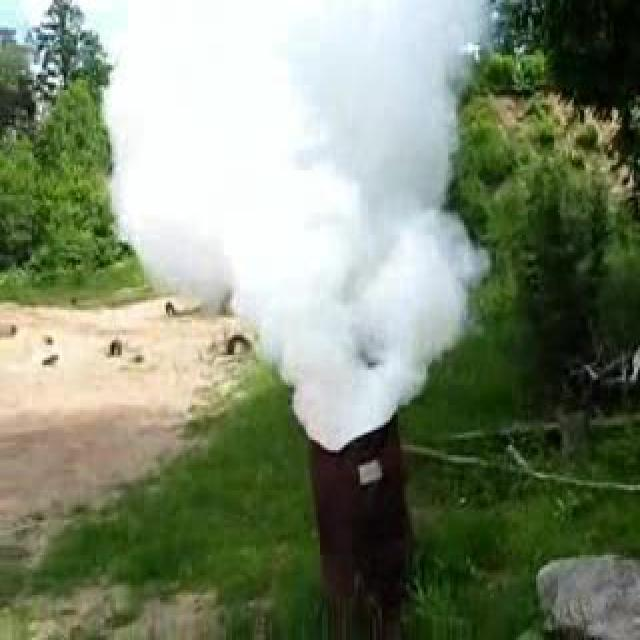Smoke: (123, 12, 448, 259)
